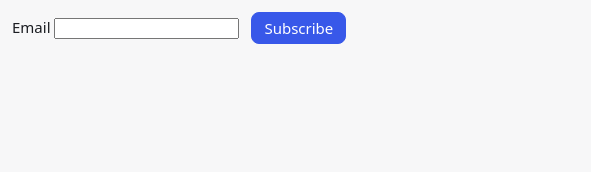
Test case: useActionState + <form action> › exposes pending state, then the returned state
Later steps or results of the test are not shown.
Type "ada@example.com" into the field labelled "Email".
click(147, 29); type("ada@example.com")  # box [54,18,239,39]
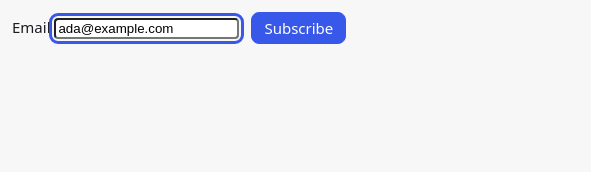
Click the button "Subscribe".
click(299, 28)  # box [251,12,346,44]
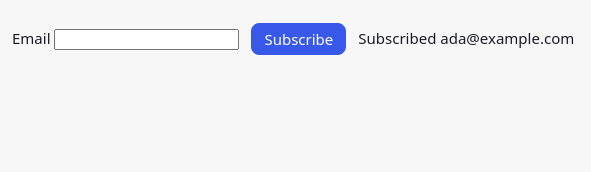
Expected: the button "Subscribe" is enabled, [251,23,346,55]
Expected: the message reads "Subscribed ada@example.com", [358,27,574,50]
Expected: the field labelled "Email" is empty, [54,29,239,50]
